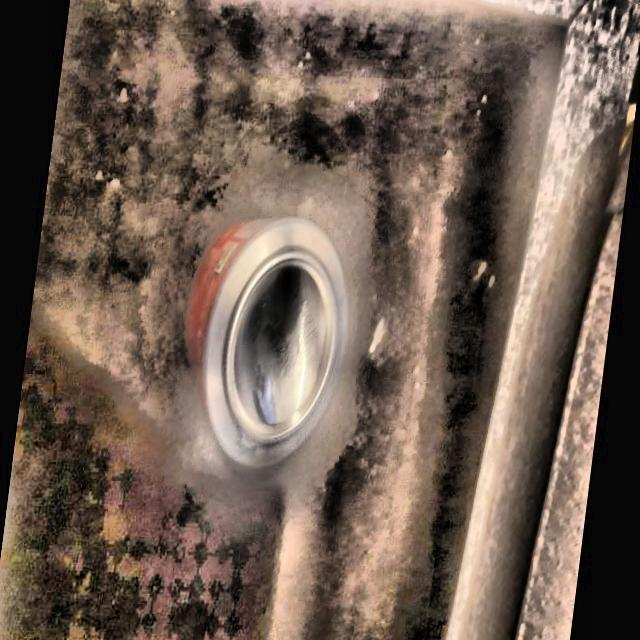coke-can: (182, 216, 347, 468)
